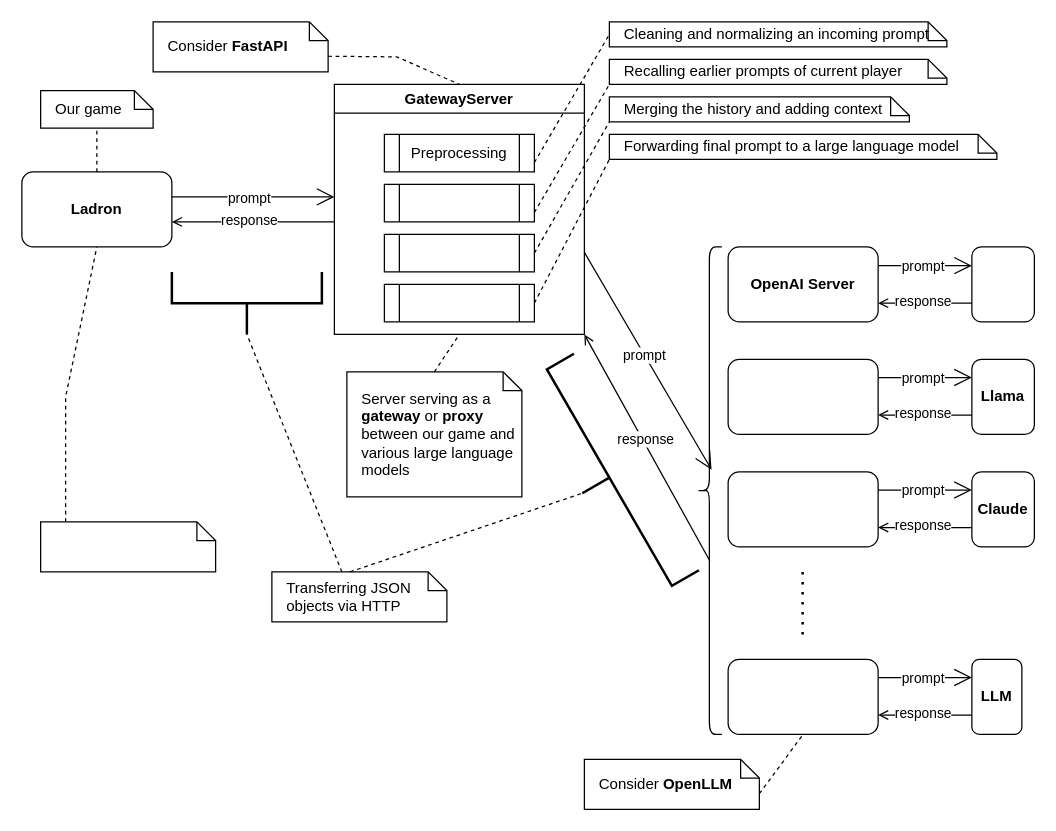
The diagram is 1056 pixels wide and 831 high, and some of its shapes have lost their labels. Here are the shapes that lost their labels. From the top down, the box of each, then its label:
(383, 183, 534, 222): Retrieving
(383, 233, 534, 272): Enriching
(383, 283, 534, 322): Forwarding
(971, 246, 1034, 322): GPT
(727, 358, 878, 434): Meta Server
(727, 471, 878, 547): AnthropicServer
(39, 521, 216, 572): Consider Unity
(727, 658, 878, 734): Locally-HostesdServer
